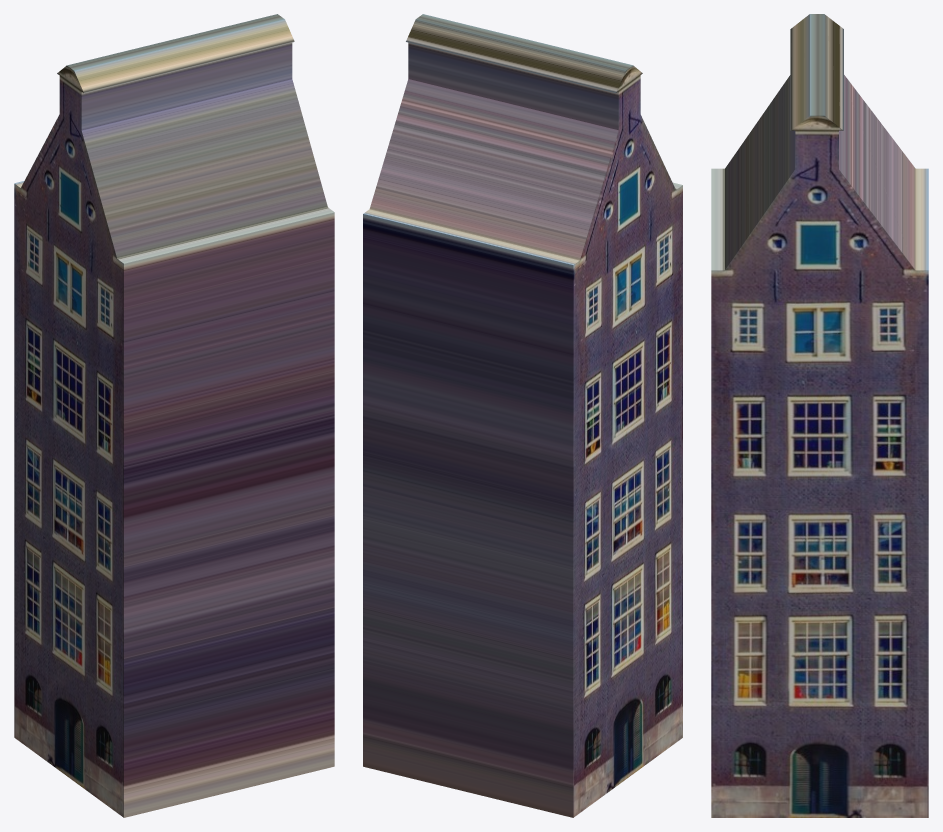
File: Building1.fbx
3 views of the same model, side by side, from view 1: azimuth 30°, elevation 25°; view 2: azimuth 150°, elevation 25°; view 3: azimuth 270°, elevation 25° (orthographic).
Parts seen in each view (by area): view 1: 988f8a570540788723d9cbaf4f315afa1; view 2: 988f8a570540788723d9cbaf4f315afa1; view 3: 988f8a570540788723d9cbaf4f315afa1.
Boxes of the visible parts, bbox=[...] form: 988f8a570540788723d9cbaf4f315afa1: bbox=[14, 14, 334, 817]; 988f8a570540788723d9cbaf4f315afa1: bbox=[363, 14, 682, 817]; 988f8a570540788723d9cbaf4f315afa1: bbox=[711, 14, 928, 817].
Size of the model in its own units: 396 by 1278 by 358.
1 material, 1 textured.
